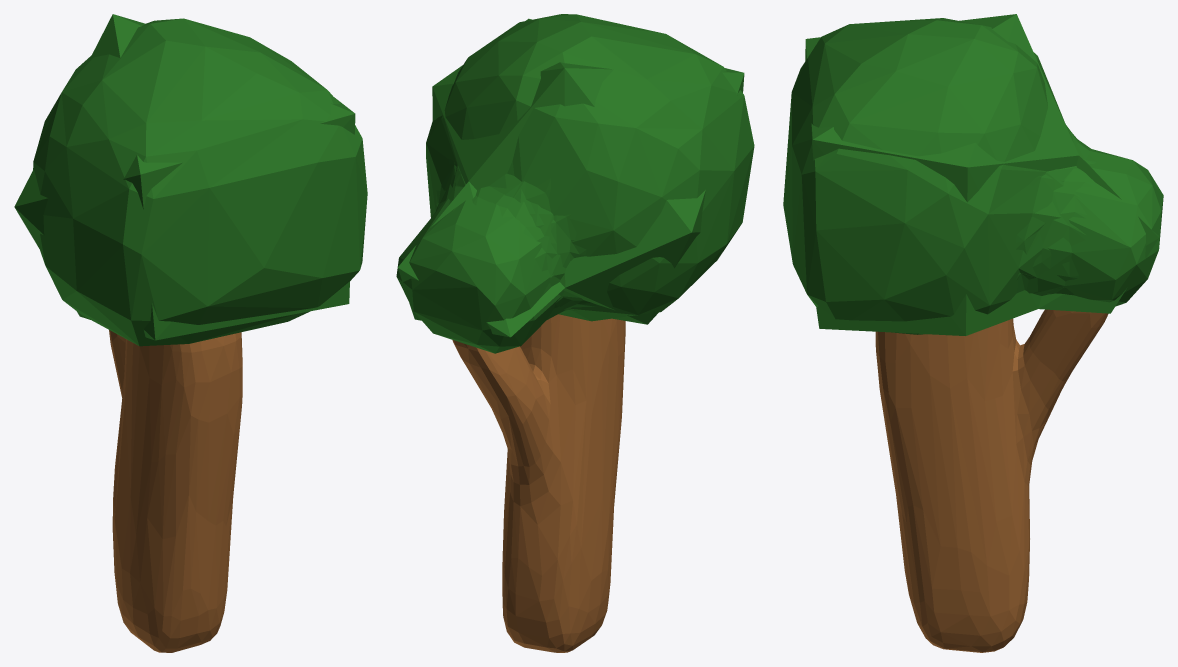
Rendered from TreeLOD.fbx.
The picture shows the model from 3 angles, left to right: view 1: azimuth 30°, elevation 25°; view 2: azimuth 150°, elevation 25°; view 3: azimuth 270°, elevation 25°; orthographic projection. The views are drawn at different scales.
Visible parts, largest first — view 1: Cube.001, LOD0, Cube.002; view 2: Cube.001, LOD0, Cube.002, Cube.004; view 3: Cube.001, LOD0, Cube.002, Cube.004.
Boxes of the visible parts, <box> form: Cube.001: <box>33,18,367,346</box>; LOD0: <box>109,330,242,652</box>; Cube.002: <box>14,14,355,340</box>; Cube.001: <box>396,14,754,353</box>; LOD0: <box>452,314,625,652</box>; Cube.002: <box>397,18,744,337</box>; Cube.004: <box>431,159,596,312</box>; Cube.001: <box>783,18,1163,334</box>; LOD0: <box>875,309,1108,652</box>; Cube.002: <box>805,14,1158,335</box>; Cube.004: <box>1015,125,1105,295</box>.
Size of what is drawn, in the model's own units: 7.27 by 12.92 by 6.28.
